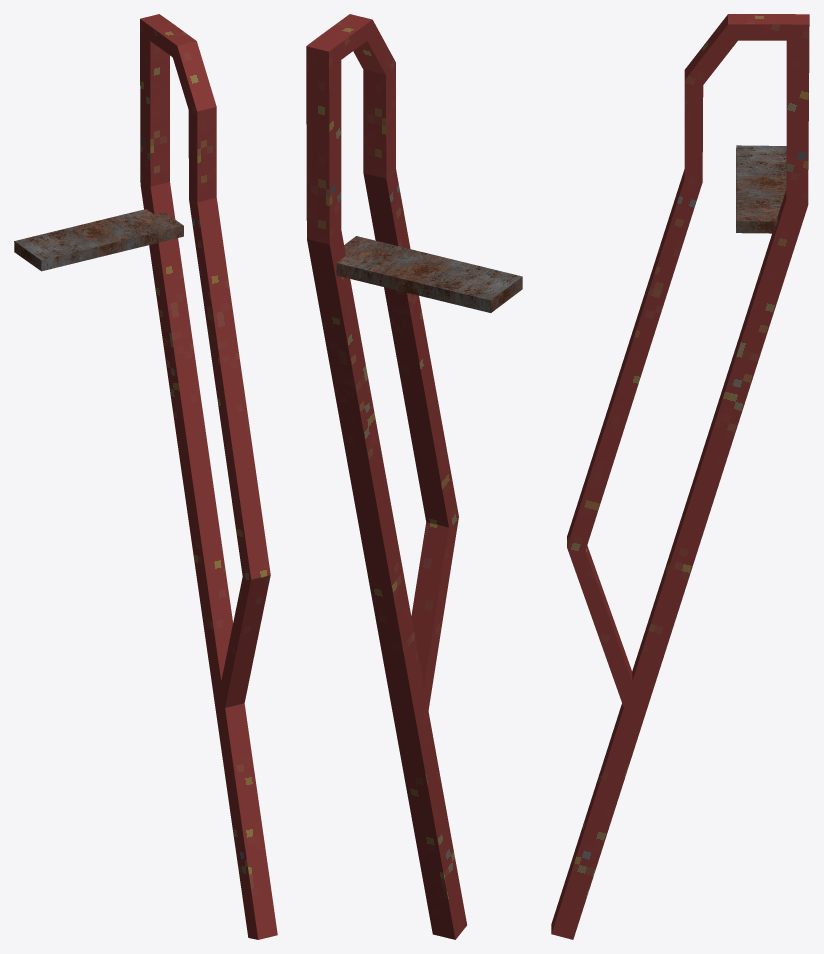
Rendered from ladder.glb.
3 views of the same model, side by side, from view 1: azimuth 30°, elevation 25°; view 2: azimuth 150°, elevation 25°; view 3: azimuth 270°, elevation 25° (orthographic). The views are drawn at different scales.
Parts seen in each view (by area): view 1: rails, steps; view 2: rails, steps; view 3: rails, steps.
Boxes of the visible parts, x1,y1,x2,y2 form: rails: (140, 14, 277, 939); steps: (14, 209, 183, 271); rails: (306, 14, 466, 939); steps: (336, 236, 522, 312); rails: (551, 14, 809, 939); steps: (736, 145, 786, 233).
Size of the model in its own units: 0.2065 by 1.09 by 0.2791.
2 materials, 2 textured.
